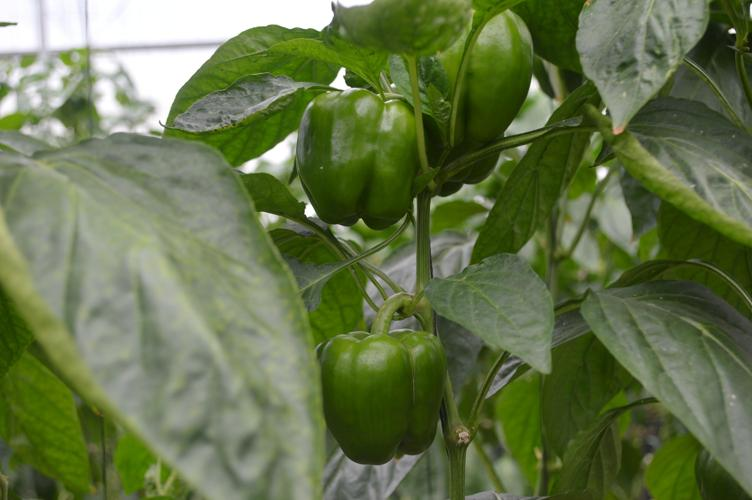BellPepper: (314, 332, 445, 461), (296, 92, 416, 229), (434, 11, 535, 164)
